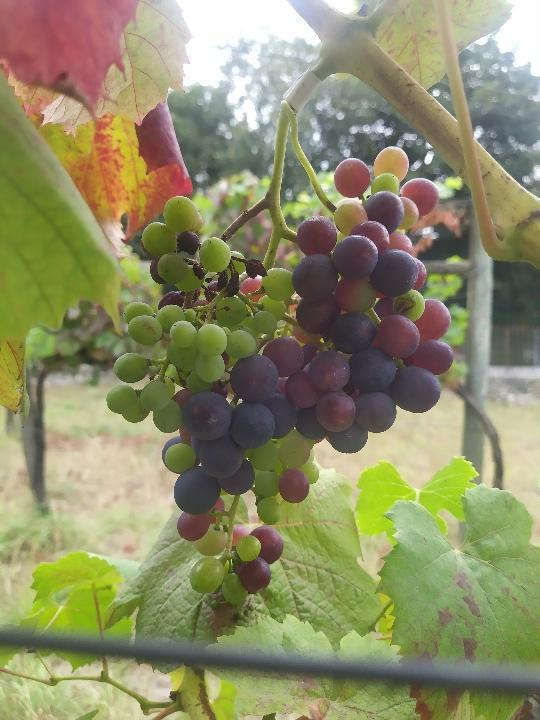grape: (104, 142, 458, 609)
